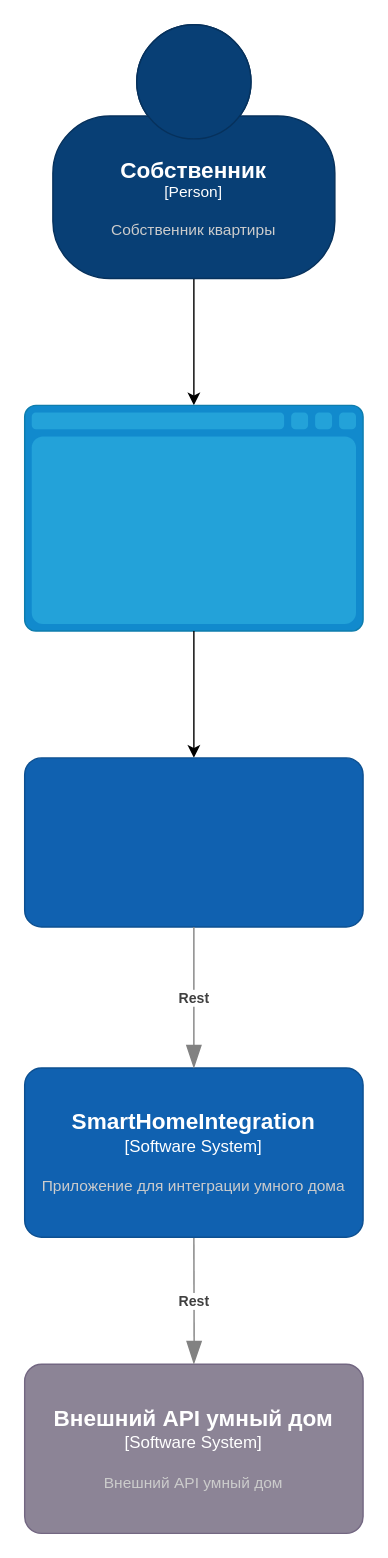
The diagram is 388 pixels wide and 1558 high, and some of its shapes have lost their labels. Each missing label, with the centre of its shape:
"MobileApp [Container: Android,IOS] Мобильное приложение" belongs at (193,517).
"PropDevelopmentMobileApp [Software System] Description of software system." belongs at (193,841).
